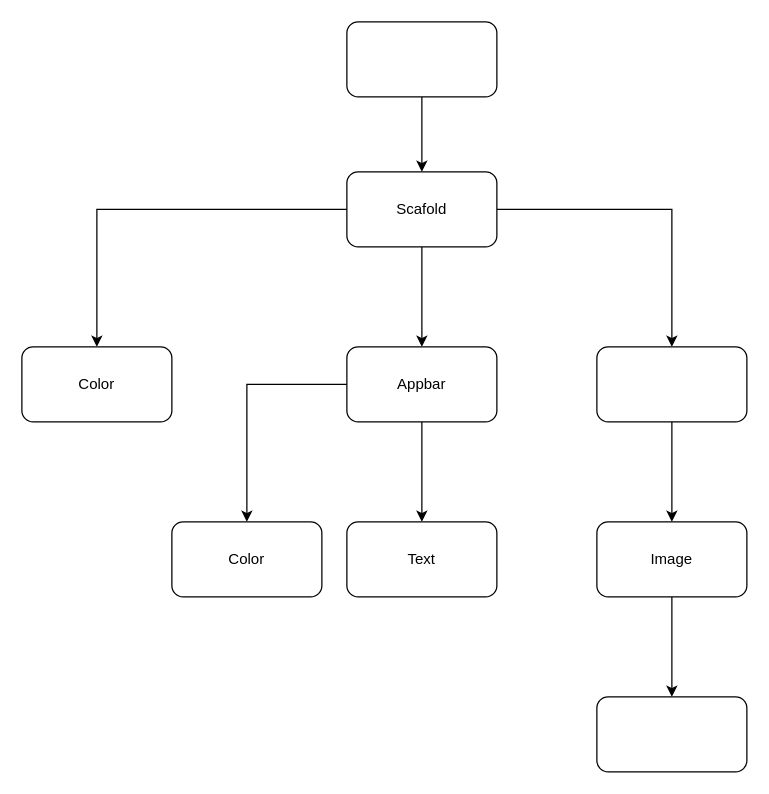
Some shapes in this 769 by 794 pixel diagram are drawn without their labels. The shapes that lost their labels are listed below. From the top down, each one's centre as x and y in pixels, then its label:
At (421,59): "Material App".
At (671,384): "Center".
At (671,734): "NetworkImage".
